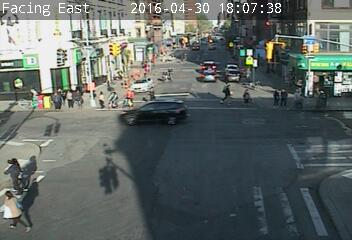neg: (15, 38, 37, 68), (133, 167, 153, 194), (242, 36, 260, 61), (252, 152, 270, 176), (189, 82, 206, 105), (64, 59, 81, 81), (65, 197, 82, 219), (96, 132, 112, 153), (183, 129, 198, 150), (219, 149, 234, 169), (295, 142, 309, 161), (72, 32, 86, 51), (291, 40, 304, 58), (235, 198, 248, 216), (23, 123, 36, 140), (111, 19, 124, 36), (180, 173, 192, 190), (297, 205, 309, 222), (163, 107, 174, 123), (187, 29, 198, 44), (81, 109, 92, 124), (179, 147, 190, 161), (148, 34, 159, 48), (170, 56, 181, 69), (55, 123, 65, 136), (90, 164, 100, 177), (107, 61, 116, 74), (209, 65, 218, 77), (164, 68, 171, 78)
pos: (218, 81, 241, 112), (119, 85, 137, 110), (93, 87, 109, 109), (68, 85, 84, 107), (60, 88, 76, 110), (143, 82, 159, 103), (290, 88, 306, 109), (48, 90, 63, 110), (239, 85, 254, 105), (107, 88, 122, 107), (268, 88, 283, 107), (277, 86, 291, 104)
